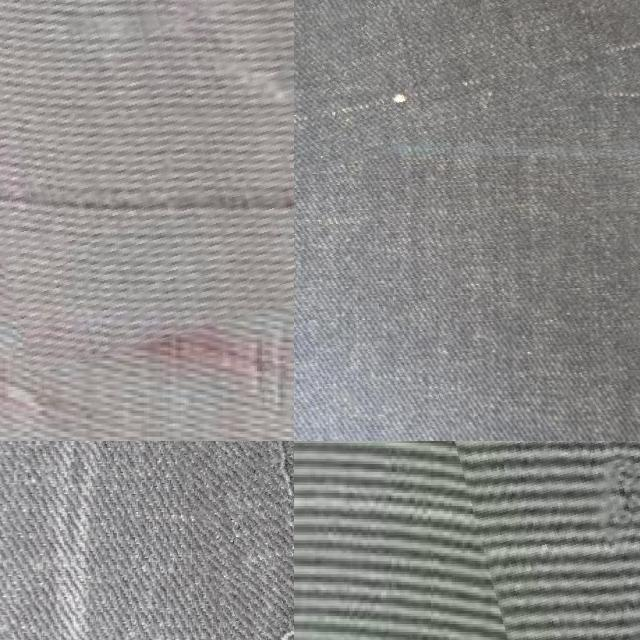stains: (294, 0, 640, 172), (451, 441, 640, 640), (154, 441, 294, 640)
